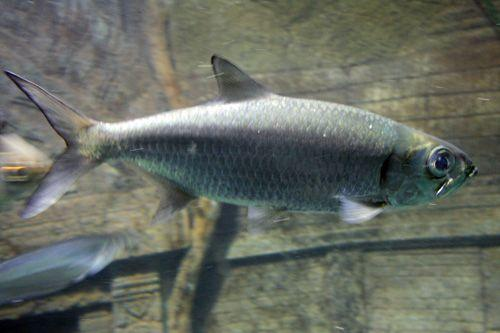Indo-Pacific Tarpon: (5, 52, 479, 227)
